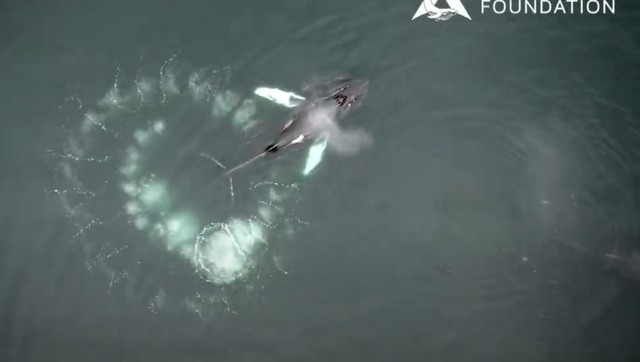whale: (191, 66, 381, 210)
